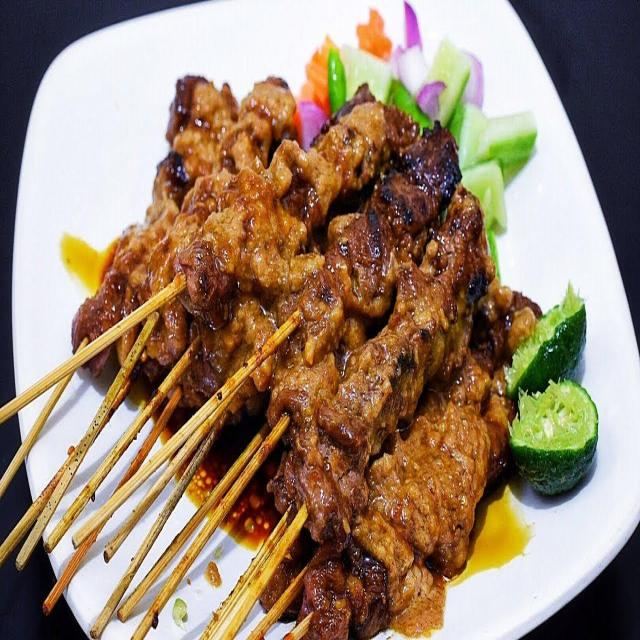Sate: (0, 41, 518, 640)
